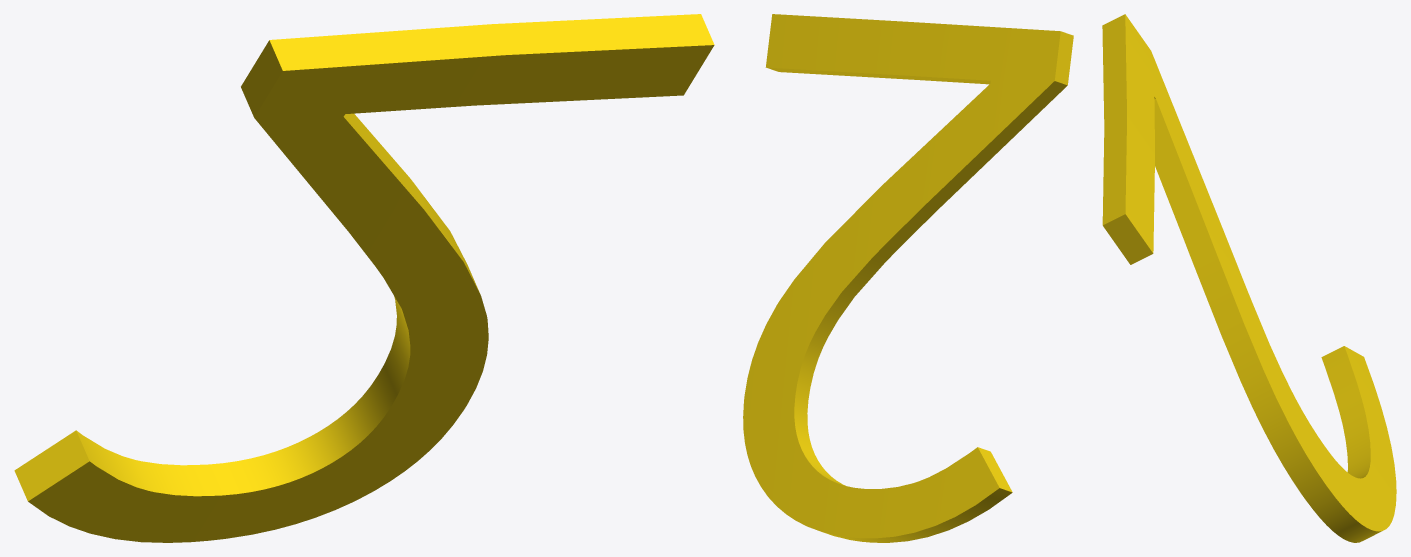
The model's file is Number_2.gltf.
3 renders of one model, left to right at view 1: azimuth 30°, elevation 25°; view 2: azimuth 150°, elevation 25°; view 3: azimuth 270°, elevation 25°, orthographic. The views are drawn at different scales.
Visible parts, largest first — view 1: Sub_9_Cell_1_3_Number_2; view 2: Sub_9_Cell_1_3_Number_2; view 3: Sub_9_Cell_1_3_Number_2.
Part boxes in pixels (x1=…): Sub_9_Cell_1_3_Number_2: x1=14, y1=14, x2=714, y2=542; Sub_9_Cell_1_3_Number_2: x1=743, y1=14, x2=1073, y2=542; Sub_9_Cell_1_3_Number_2: x1=1102, y1=14, x2=1396, y2=542.
Bounding box in the file's own units: 0.0195 × 0.024 × 0.0139.
